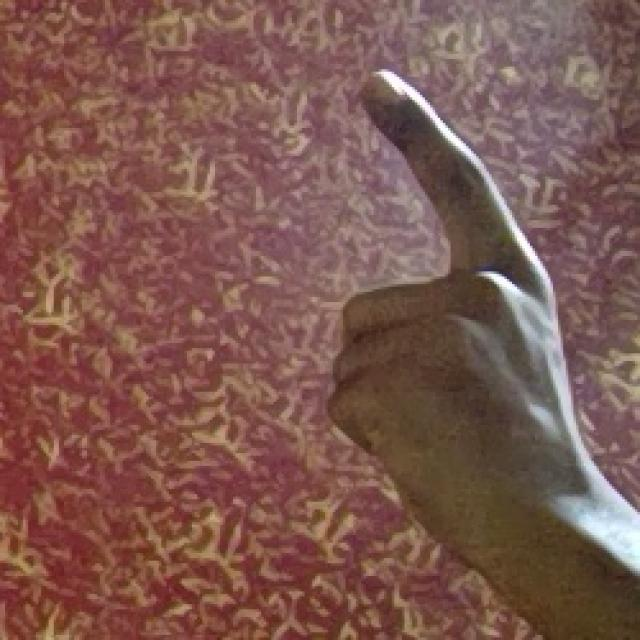Alphabet-I: (298, 67, 603, 571)
